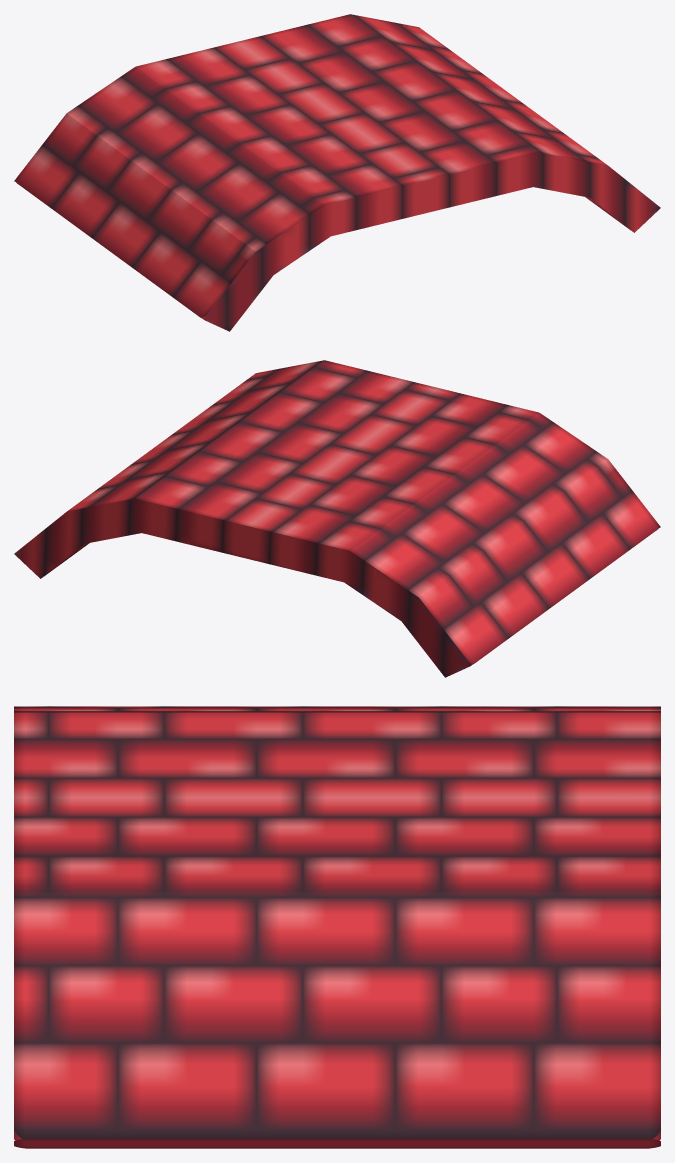
The model's file is Bridge.fbx.
The picture shows the model from 3 angles, top to bottom: view 1: azimuth 30°, elevation 25°; view 2: azimuth 150°, elevation 25°; view 3: azimuth 270°, elevation 25°; orthographic projection. The views are drawn at different scales.
Parts seen in each view (by area): view 1: tube; view 2: tube; view 3: tube.
Part boxes in pixels (box(x1,y1,x2,y2)): tube: box(14, 14, 660, 331); tube: box(14, 360, 660, 677); tube: box(14, 706, 660, 1148).
Size of the model in its own units: 122 by 26.43 by 87.5.
1 material, 1 textured.
